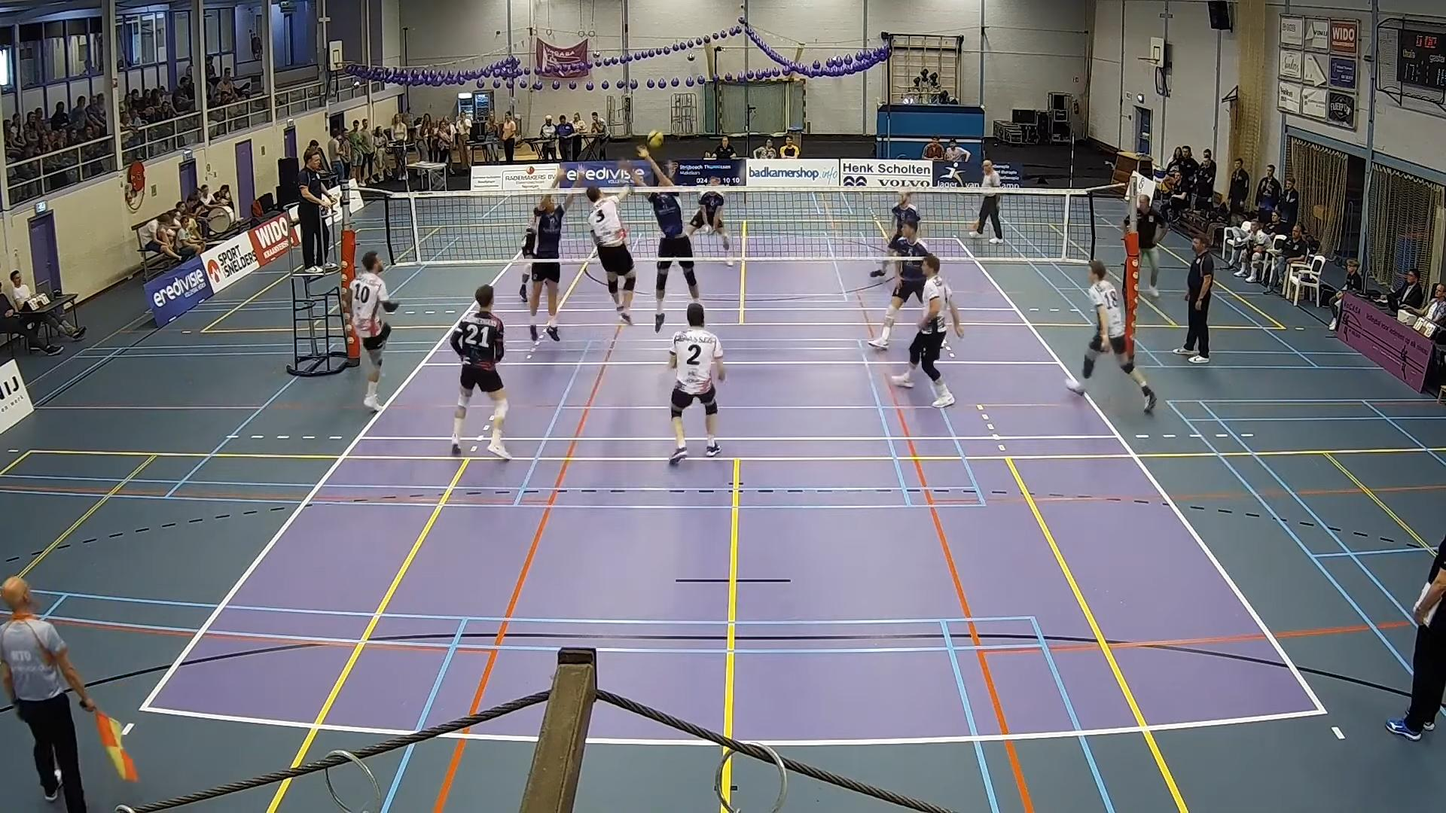attacco: (586, 173, 643, 321)
muro: (618, 141, 712, 337), (523, 158, 588, 351)
